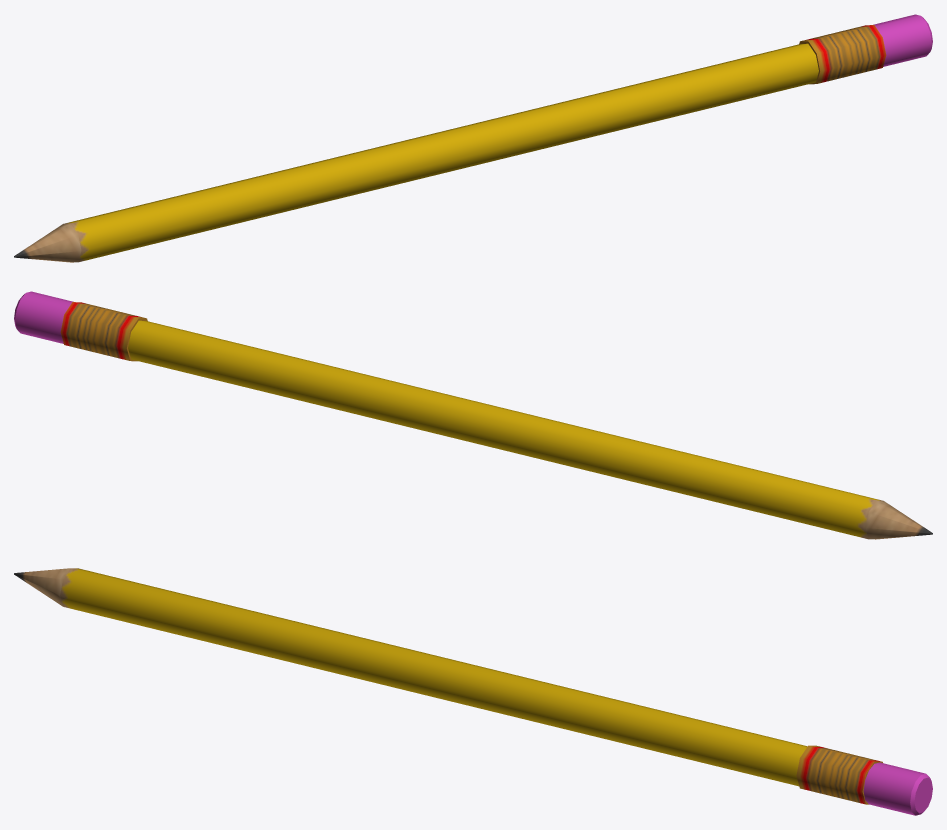
File: pencil.FBX
3 views of the same model, one above another, from view 1: azimuth 30°, elevation 25°; view 2: azimuth 150°, elevation 25°; view 3: azimuth 330°, elevation 25° (orthographic).
Visible parts, largest first — view 1: pencil; view 2: pencil; view 3: pencil.
Boxes of the visible parts, bbox=[...] form: pencil: bbox=[14, 14, 932, 262]; pencil: bbox=[14, 291, 932, 539]; pencil: bbox=[14, 568, 932, 815].
Size of the model in its own units: 6.82 by 0.3087 by 0.3087.
1 material, 1 textured.
